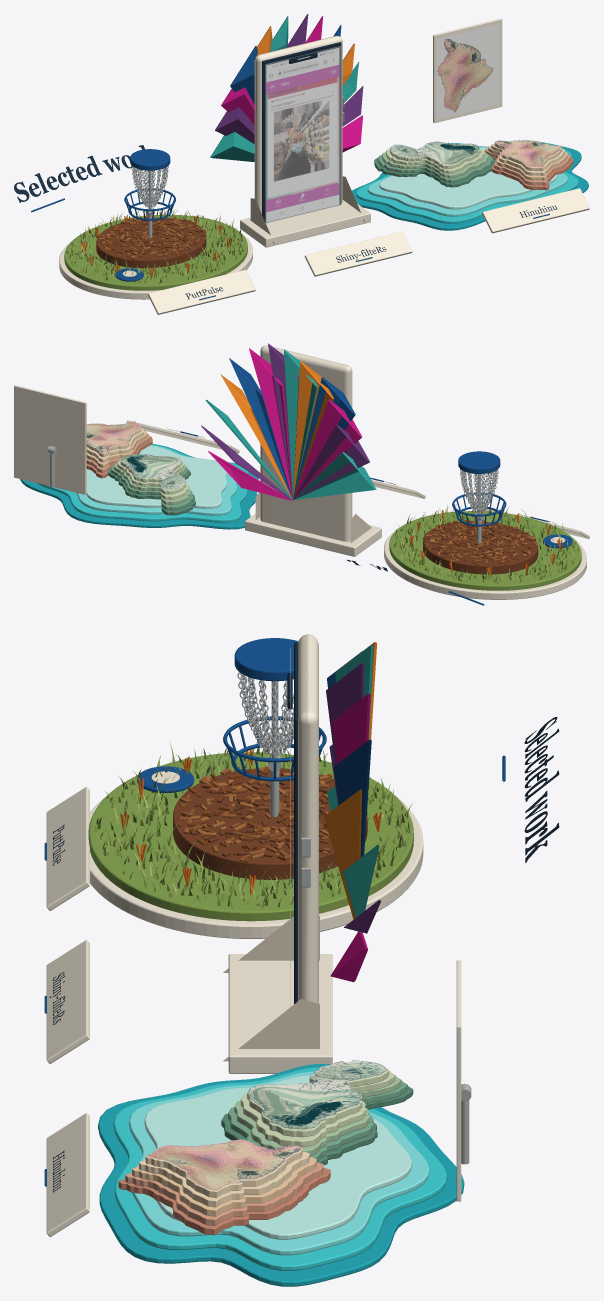
The model's file is work-compact-fallback.glb.
3 views of the same model, one above another, from view 1: azimuth 30°, elevation 25°; view 2: azimuth 150°, elevation 25°; view 3: azimuth 270°, elevation 25° (orthographic). The views are drawn at different scales.
Visible parts, largest first — view 1: Phone glass lens, Original application screen, Miniature living grass, Altitude chart image, Work miniature / Mulch chip 0, Layered ocean contour.003, Phone cradle, Project nameplate PuttPulse, Project nameplate Hinuhinu, Project nameplate Shiny-filteRs, Shiny-filteRs phone shell, shiny-device / Printed navy (+28 smaller); view 2: Miniature living grass, Standing Hinuhinu chart, Shiny-filteRs phone shell, shiny-device / Folded magenta, shiny-device / Folded teal, Work miniature / Mulch chip 0, Layered ocean contour.003, shiny-device / Folded violet, shiny-device / Folded orange, shiny-device / Basket cobalt, Work miniature / Folded cream card, Layered ocean contour (+22 smaller); view 3: Miniature living grass, Layered ocean contour.003, Layered ocean contour, Layered ocean contour.001, Work miniature / Mulch chip 0, Phone cradle, Shiny-filteRs phone shell, Layered ocean contour.002, Work miniature / Folded cream card, Maui printed map, Project nameplate Hinuhinu, Project nameplate Shiny-filteRs (+27 smaller).
Part boxes in pixels (x1,y1,x2,y2): Phone glass lens: [265, 46, 340, 223]; Original application screen: [266, 48, 339, 221]; Miniature living grass: [64, 209, 247, 290]; Altitude chart image: [437, 23, 499, 119]; Work miniature / Mulch chip 0: [96, 216, 206, 268]; Layered ocean contour.003: [379, 147, 557, 209]; Phone cradle: [240, 200, 370, 247]; Project nameplate PuttPulse: [148, 270, 255, 314]; Project nameplate Hinuhinu: [482, 188, 589, 233]; Project nameplate Shiny-filteRs: [304, 231, 412, 276]; Shiny-filteRs phone shell: [254, 36, 342, 213]; shiny-device / Printed navy: [262, 42, 341, 222]; Miniature living grass: [389, 504, 581, 590]; Standing Hinuhinu chart: [14, 385, 86, 494]; Shiny-filteRs phone shell: [260, 345, 352, 541]; shiny-device / Folded magenta: [208, 348, 362, 500]; shiny-device / Folded teal: [205, 349, 376, 500]; Work miniature / Mulch chip 0: [423, 521, 538, 574]; Layered ocean contour.003: [86, 445, 227, 508]; shiny-device / Folded violet: [201, 343, 369, 500]; shiny-device / Folded orange: [220, 361, 333, 498]; shiny-device / Basket cobalt: [229, 358, 355, 498]; Work miniature / Folded cream card: [384, 530, 586, 599]; Layered ocean contour: [20, 443, 258, 529]; Miniature living grass: [88, 741, 413, 921]; Layered ocean contour.003: [144, 1075, 411, 1239]; Layered ocean contour: [98, 1064, 464, 1286]; Layered ocean contour.001: [113, 1067, 446, 1270]; Work miniature / Mulch chip 0: [173, 768, 367, 879]; Phone cradle: [228, 954, 332, 1073]; Shiny-filteRs phone shell: [298, 634, 318, 1003]; Layered ocean contour.002: [129, 1071, 429, 1255]; Work miniature / Folded cream card: [90, 771, 423, 938]; Maui printed map: [248, 1060, 387, 1129]; Project nameplate Hinuhinu: [46, 1113, 89, 1236]; Project nameplate Shiny-filteRs: [46, 940, 89, 1063].
Bounding box in the file's own units: 10.1 × 3.56 × 4.34.
Materials: 33 (2 with a texture image).
